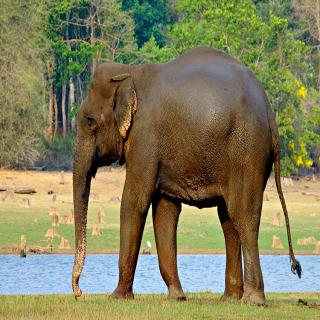Elephant: (60, 44, 304, 304)
